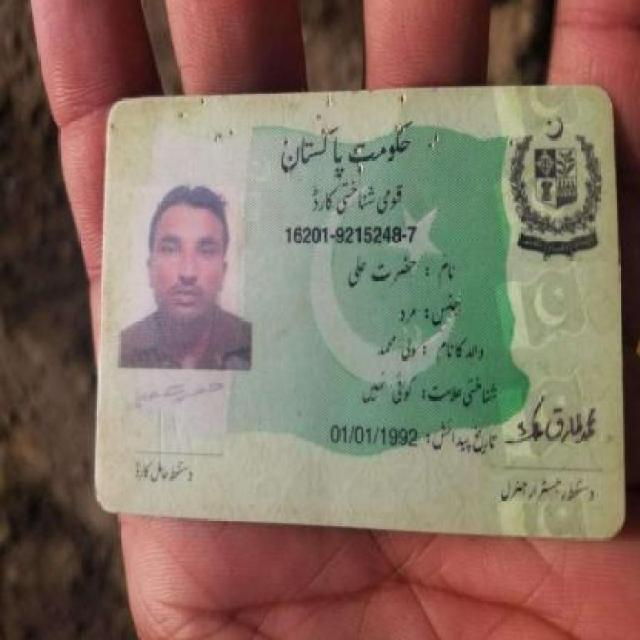Front: (77, 81, 628, 538)
